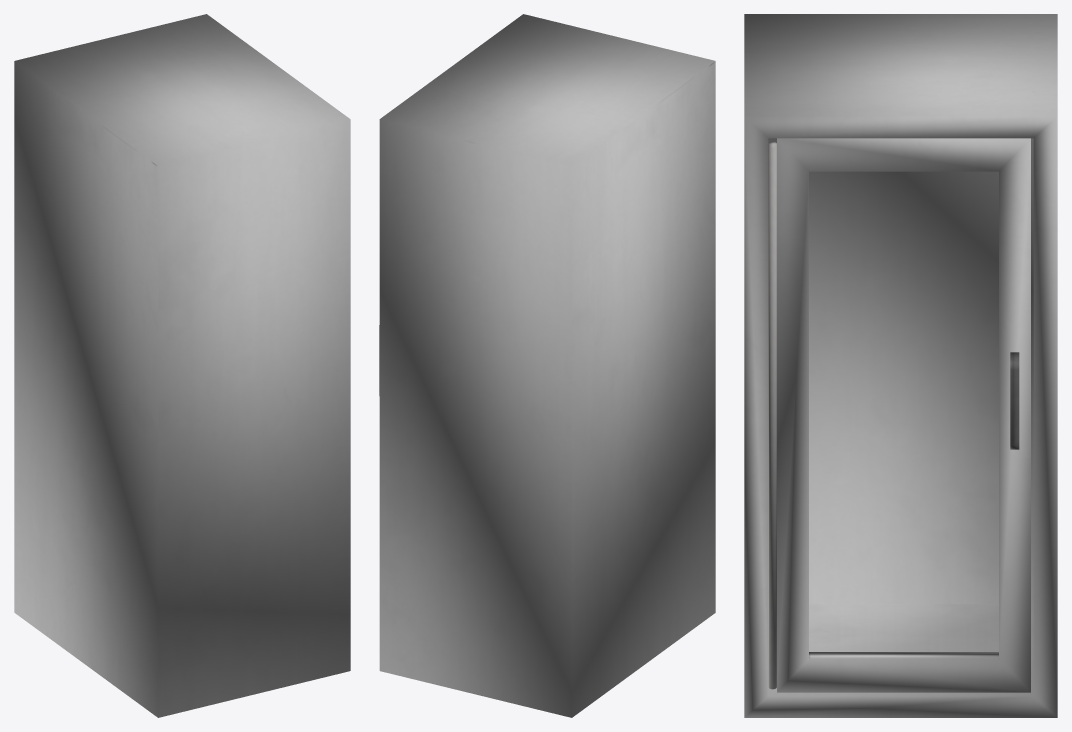
File: FireExtinguisherBoxFinal.glb
3 renders of one model, left to right at view 1: azimuth 30°, elevation 25°; view 2: azimuth 150°, elevation 25°; view 3: azimuth 270°, elevation 25°, orthographic. The views are drawn at different scales.
Visible parts, largest first — view 1: Box_LP; view 2: Box_LP; view 3: Box_LP.
Boxes of the visible parts, bbox=[...] form: Box_LP: bbox=[14, 14, 350, 717]; Box_LP: bbox=[379, 14, 715, 717]; Box_LP: bbox=[744, 14, 1057, 717].
Size of the model in its own units: 2.19 by 5.48 by 2.59.
Materials: 1 (1 with a texture image).
